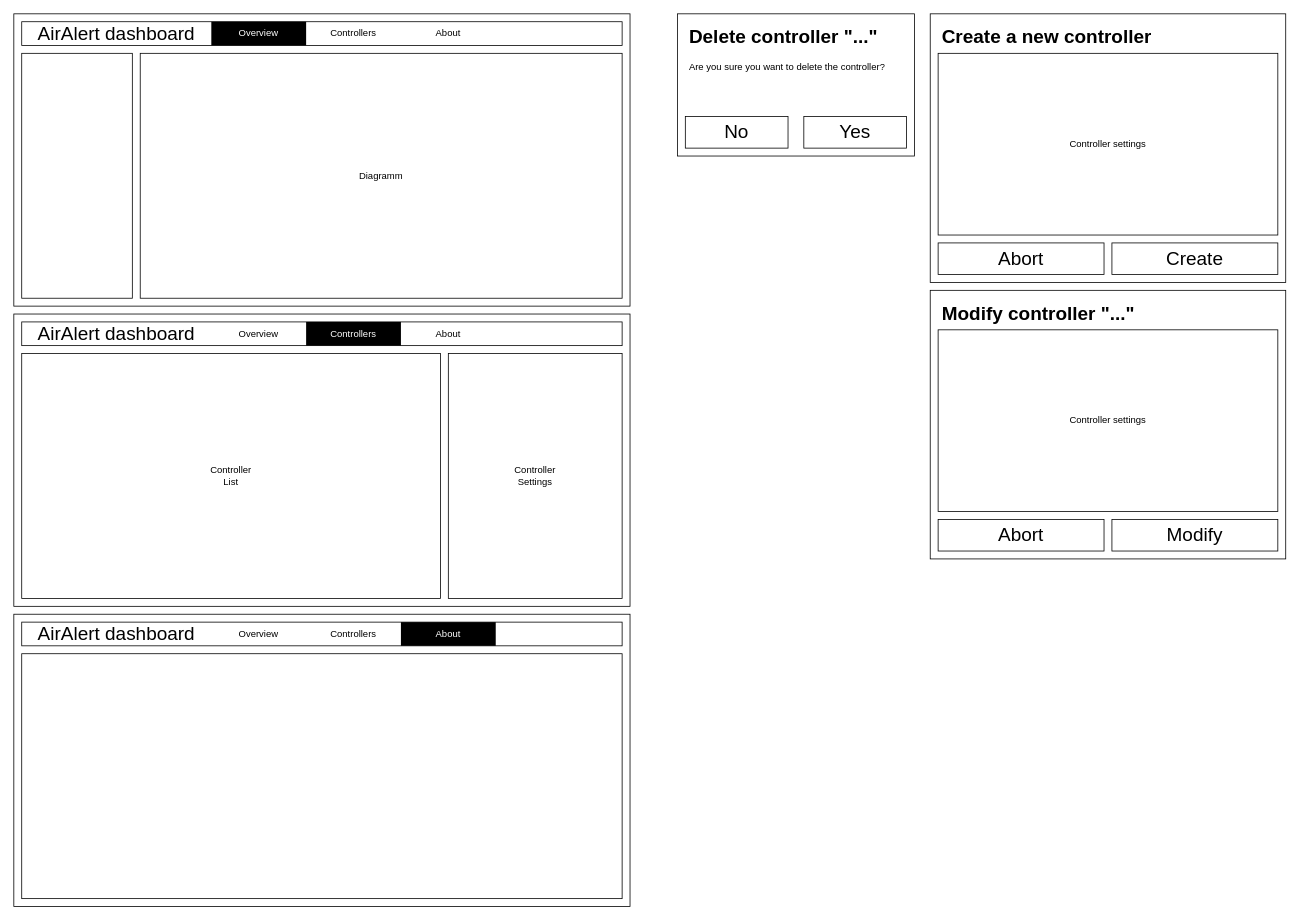
Image size: 1300x920. Some labels were removed from this diagram. Each missing label, with the box of its shape:
About Information: (21, 653, 622, 899)
Filter: (21, 53, 132, 298)
